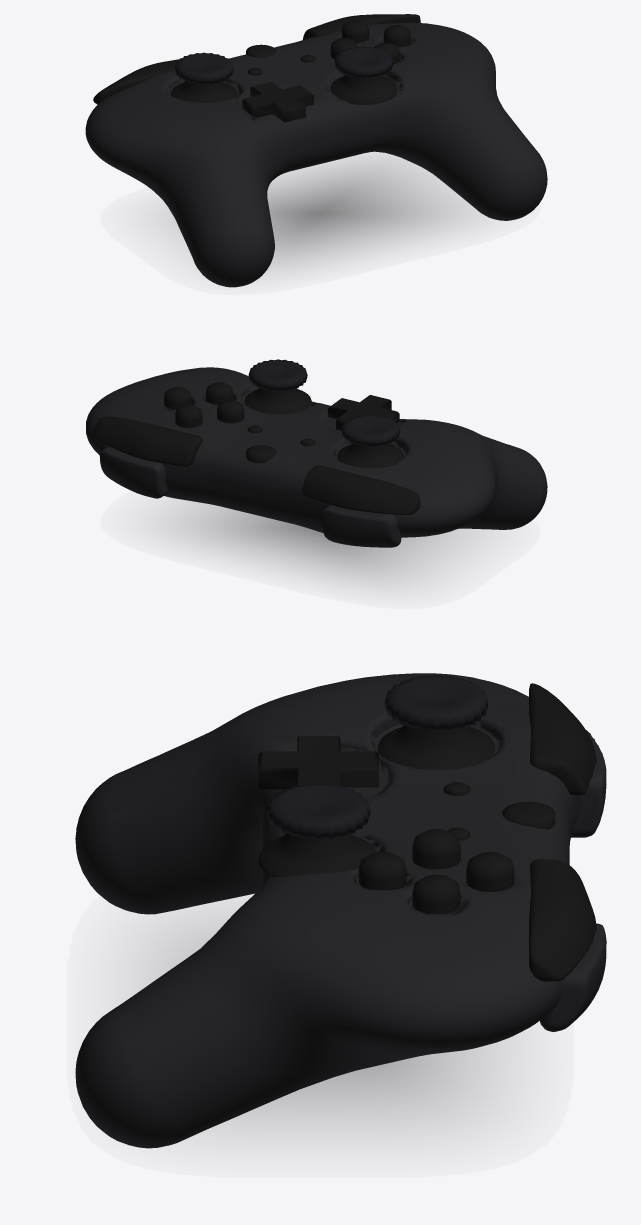
The model's file is controller.glb.
The picture shows the model from 3 angles, top to bottom: view 1: azimuth 30°, elevation 25°; view 2: azimuth 150°, elevation 25°; view 3: azimuth 270°, elevation 25°; orthographic projection. The views are drawn at different scales.
Parts seen in each view (by area): view 1: controller, controller_contact; view 2: controller, controller_contact; view 3: controller, controller_contact.
Boxes of the visible parts, x1,y1,x2,y2 form: controller: [85, 14, 547, 287]; controller_contact: [267, 161, 460, 265]; controller: [86, 359, 547, 547]; controller_contact: [180, 503, 460, 579]; controller: [75, 673, 606, 1148]; controller_contact: [161, 927, 482, 1121].
Size of the model in its own units: 0.1738 by 0.0559 by 0.1196.
Materials: 2 (1 with a texture image).
